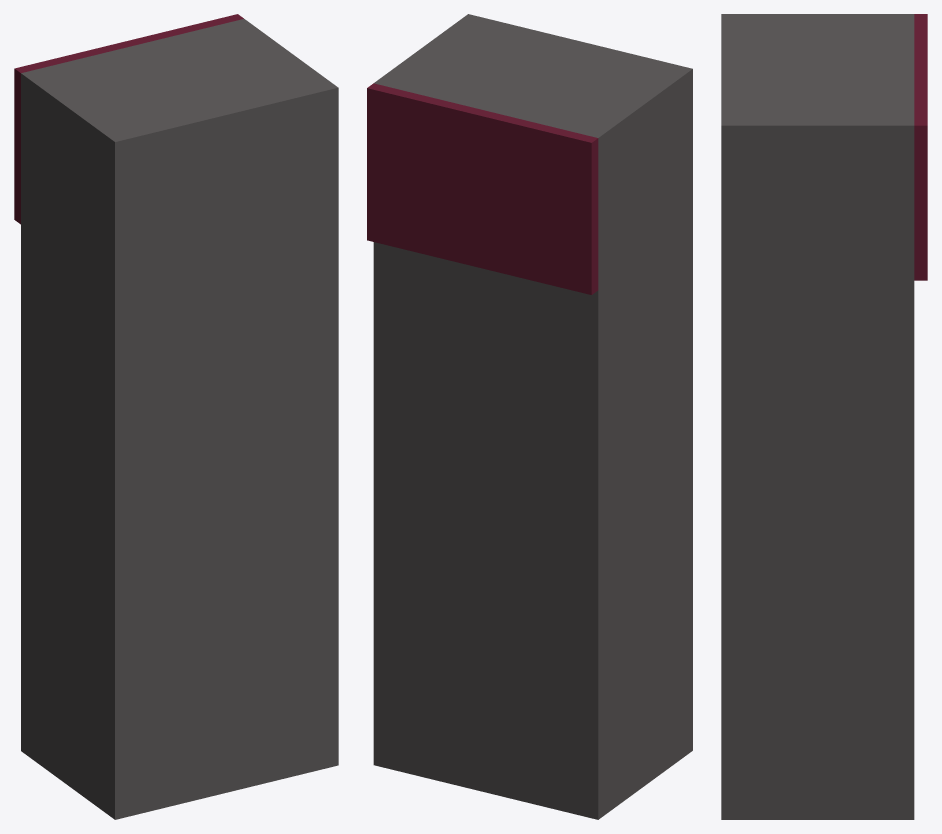
The model's file is ground_floor_pillar.fbx.
The picture shows the model from 3 angles, left to right: view 1: azimuth 30°, elevation 25°; view 2: azimuth 150°, elevation 25°; view 3: azimuth 270°, elevation 25°; orthographic projection. The views are drawn at different scales.
Visible parts, largest first — view 1: ground_floor_pillar; view 2: ground_floor_pillar; view 3: ground_floor_pillar.
Part boxes in pixels (left/top/right/bottom): ground_floor_pillar: left=14, top=14, right=338, bottom=819; ground_floor_pillar: left=367, top=14, right=692, bottom=819; ground_floor_pillar: left=721, top=14, right=927, bottom=819.
Bounding box in the file's own units: 103 × 300 × 80.74.
